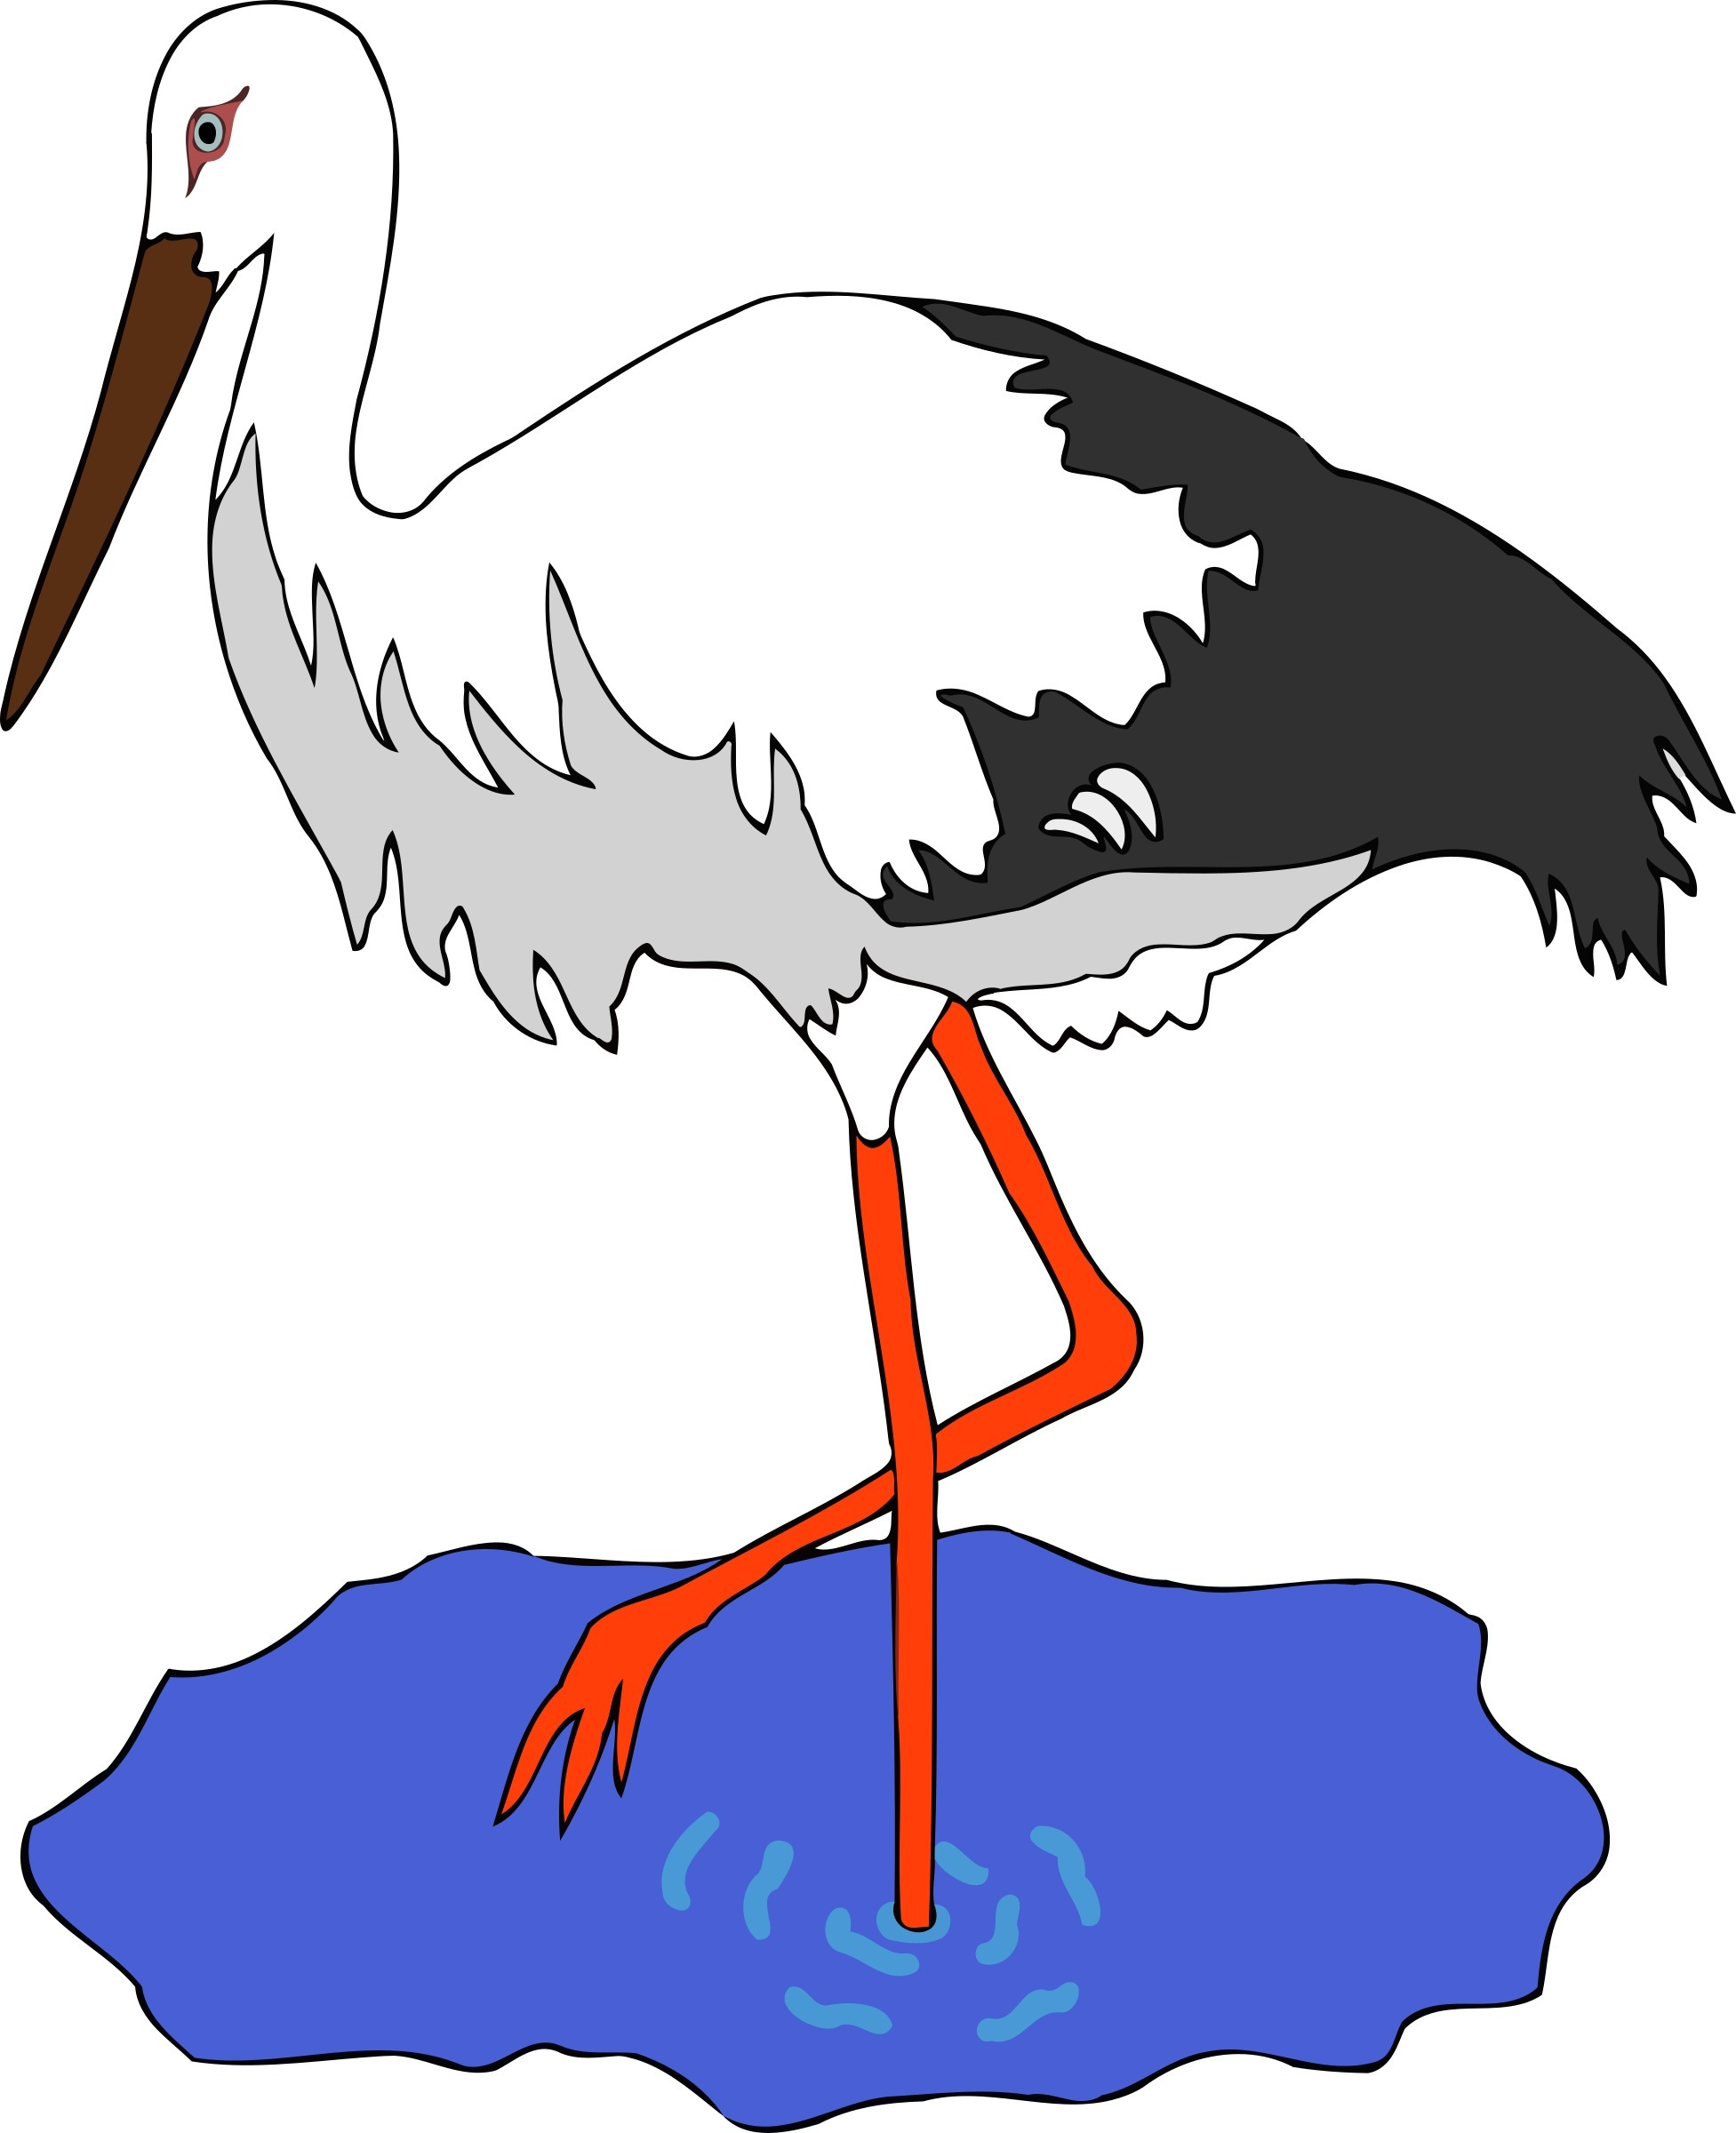bird: (5, 37, 1706, 2021)
